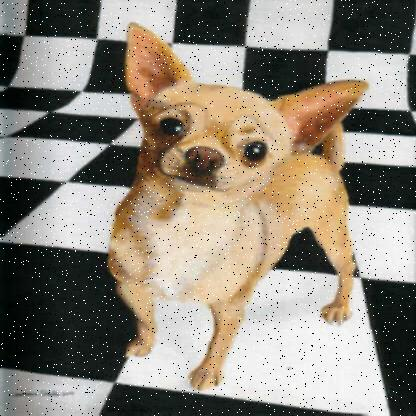dog: (109, 12, 377, 393)
